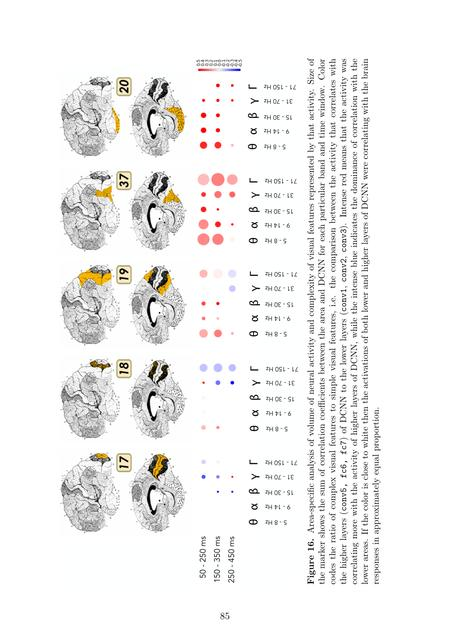box: (55, 56, 300, 586)
